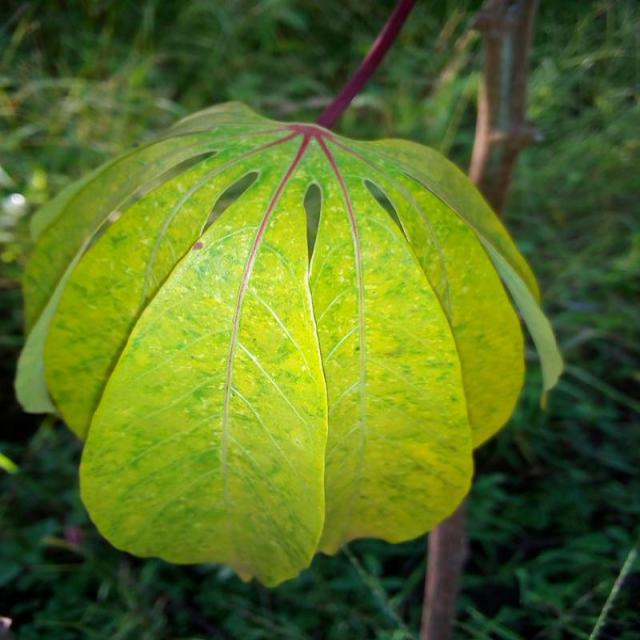cassava leaf: (16, 99, 560, 588)
